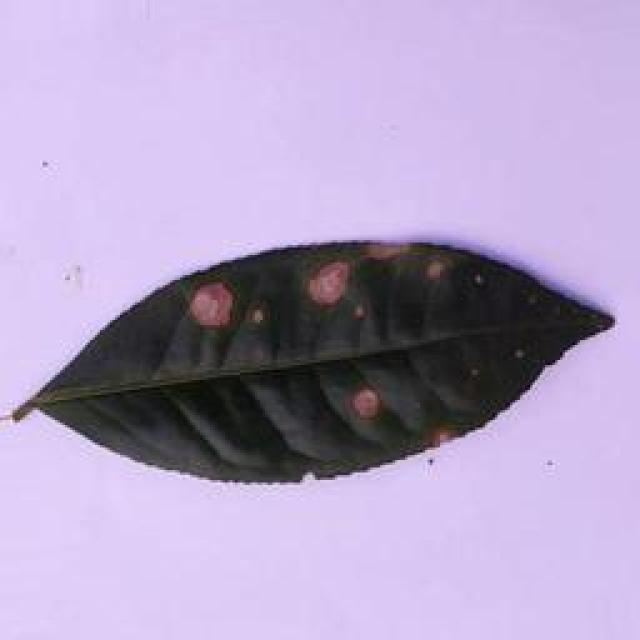Gray Blight: (6, 232, 617, 489)
